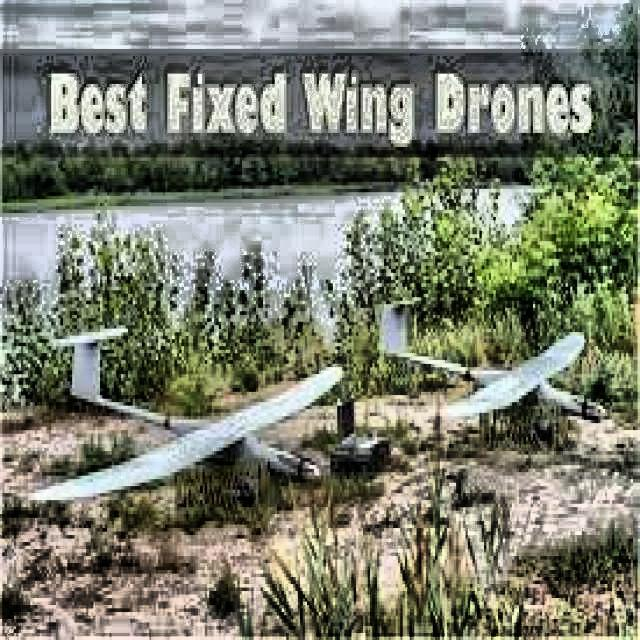iha: (42, 306, 350, 503), (376, 282, 610, 452)
